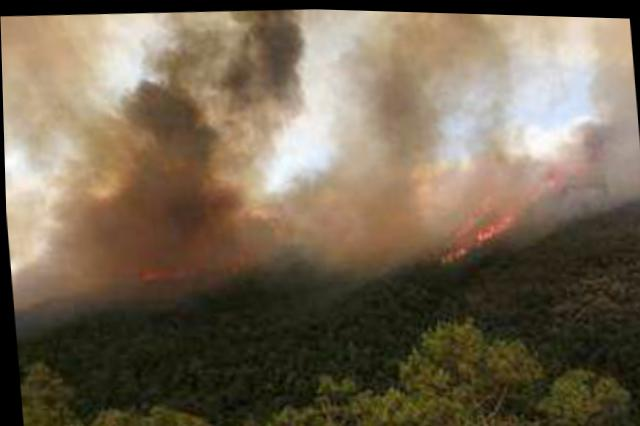fire: (435, 132, 616, 264)
